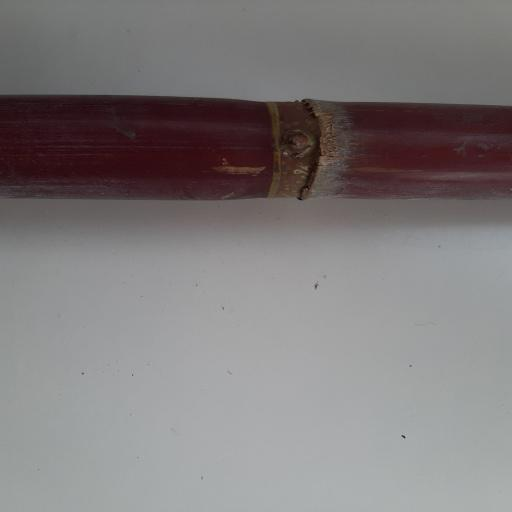Bud: (282, 129, 311, 156)
